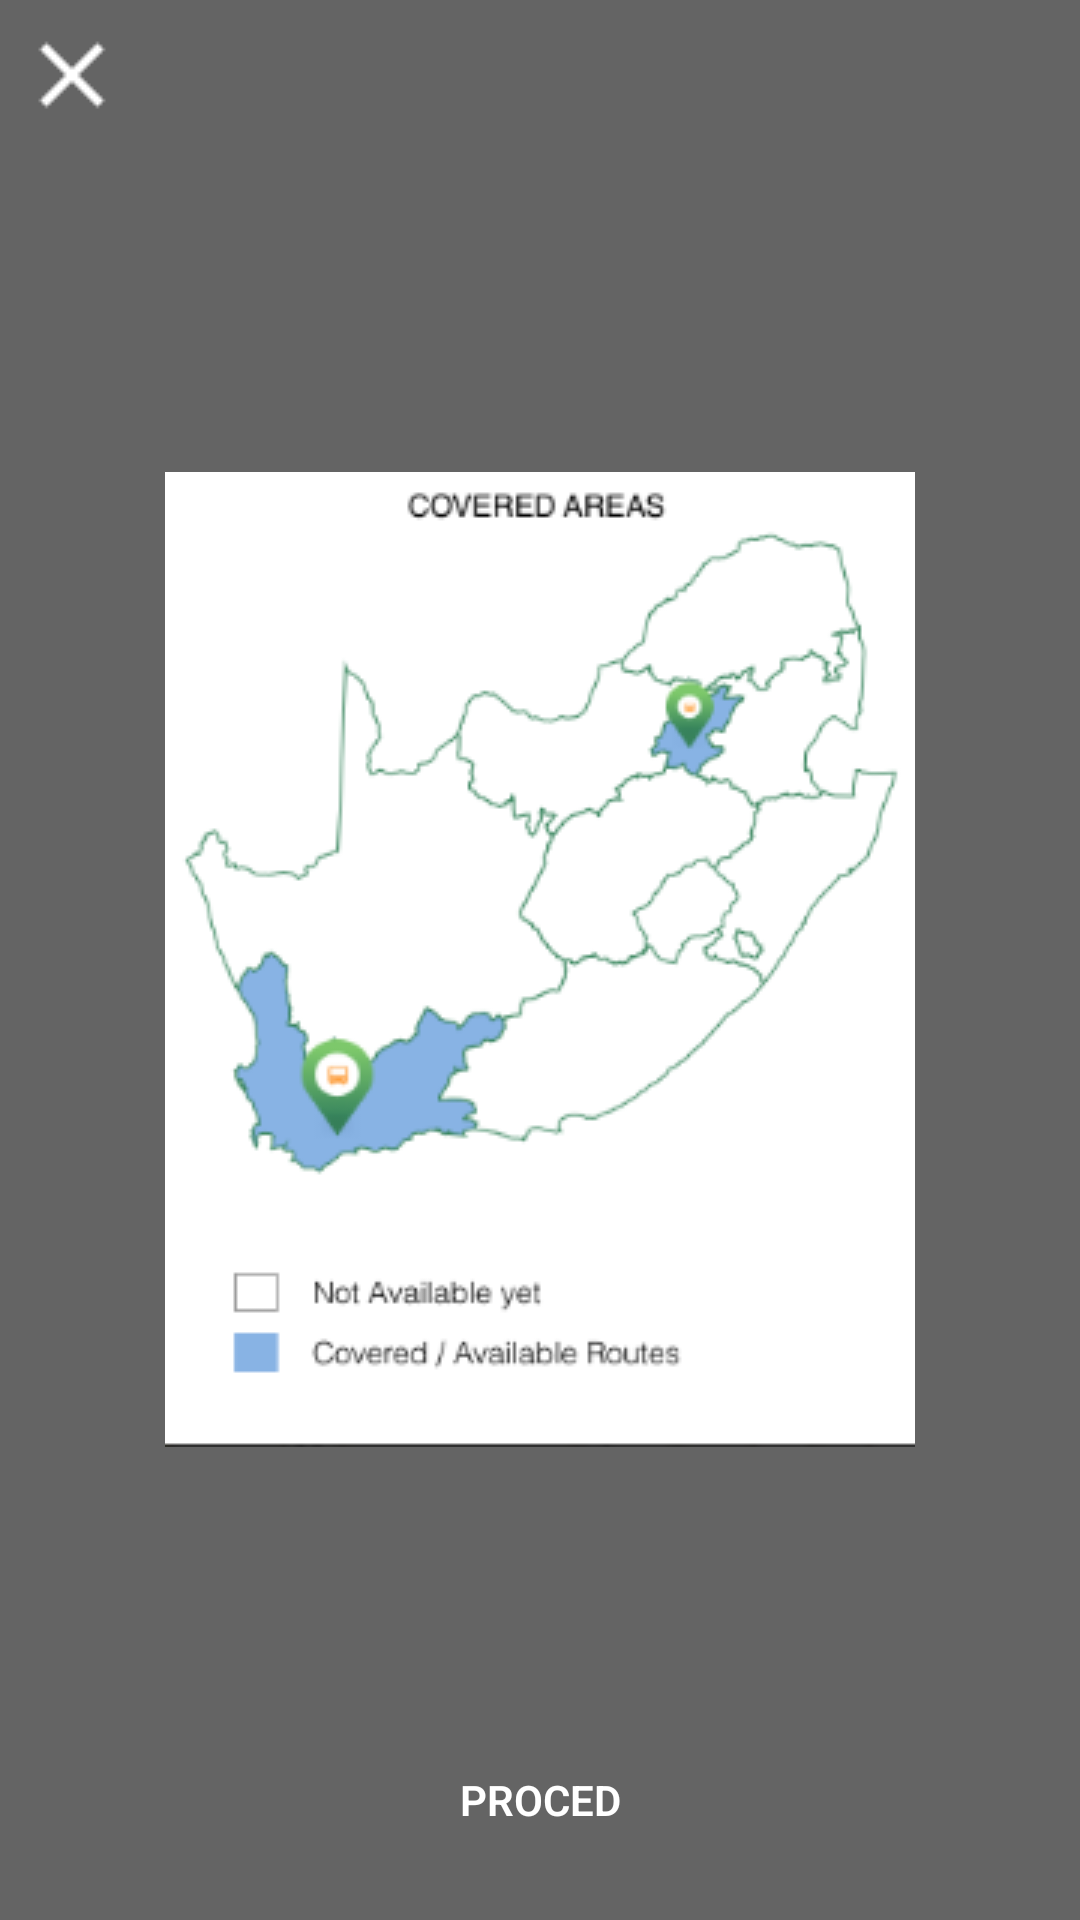

Screen size 1080 x 1920. Icon name, then its box in pixels as BBox(x1, y1, x2, y2):
close: BBox(39, 42, 105, 108)
